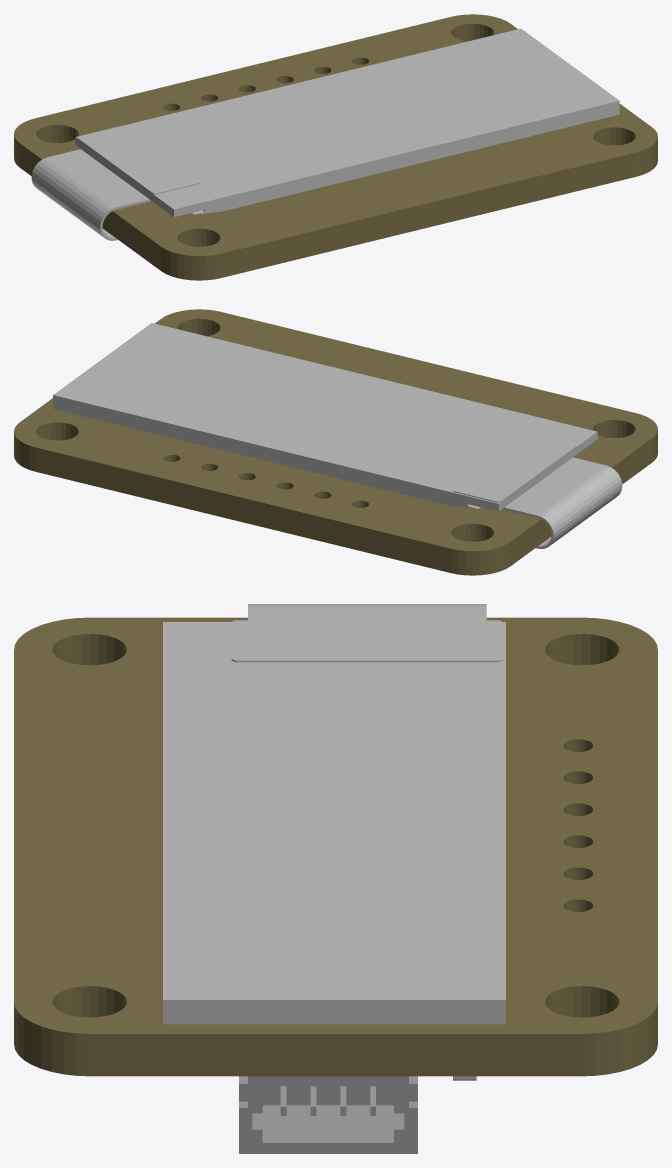
Rendered from adafruit-4440-oled-091.glb.
3 views of the same model, one above another, from view 1: azimuth 30°, elevation 25°; view 2: azimuth 150°, elevation 25°; view 3: azimuth 270°, elevation 25° (orthographic). The views are drawn at different scales.
Parts seen in each view (by area): view 1: colour 4, colour 1; view 2: colour 4, colour 1; view 3: colour 1, colour 4, colour 2.
Part boxes in pixels (box(x1,y1,x2,y2)): colour 4: box(31, 28, 619, 240); colour 1: box(14, 14, 657, 280); colour 4: box(53, 323, 622, 548); colour 1: box(14, 309, 657, 575); colour 1: box(14, 617, 657, 1076); colour 4: box(163, 604, 505, 1080); colour 2: box(239, 1076, 417, 1153).
Size of the model in its own units: 0.0341 by 0.00549 by 0.0216.
